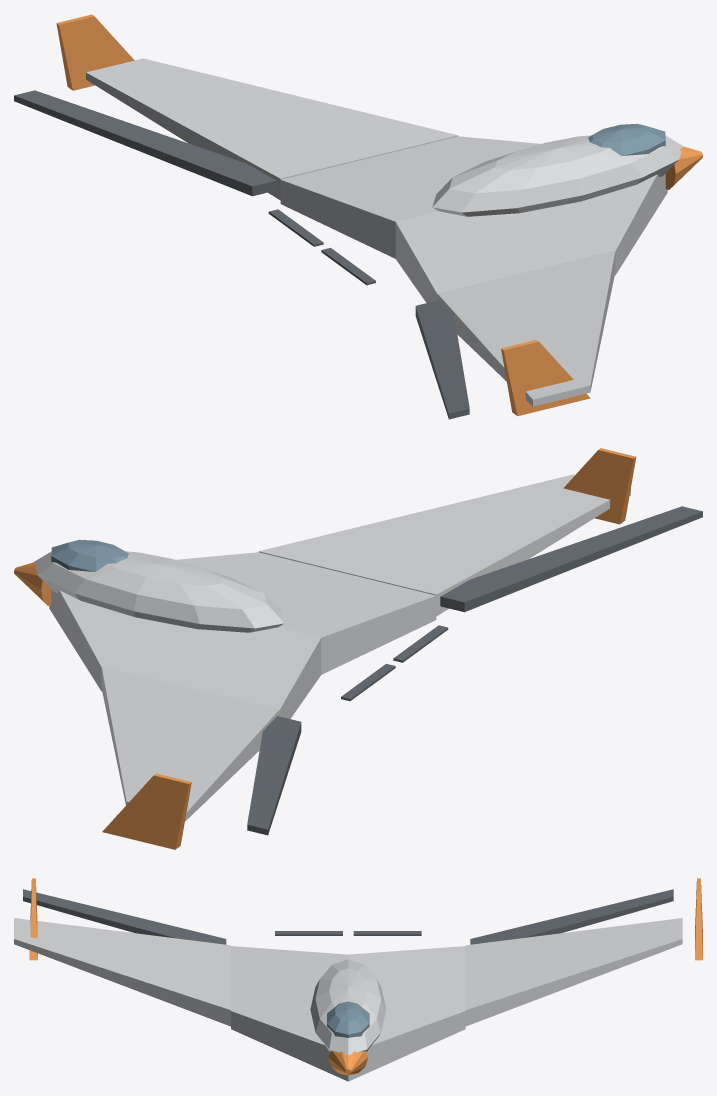
File: flying-wing.glb
3 renders of one model, top to bottom at view 1: azimuth 30°, elevation 25°; view 2: azimuth 150°, elevation 25°; view 3: azimuth 270°, elevation 25°, orthographic. The views are drawn at different scales.
Size of the model in its own units: 4.49 by 0.81 by 7.62.
